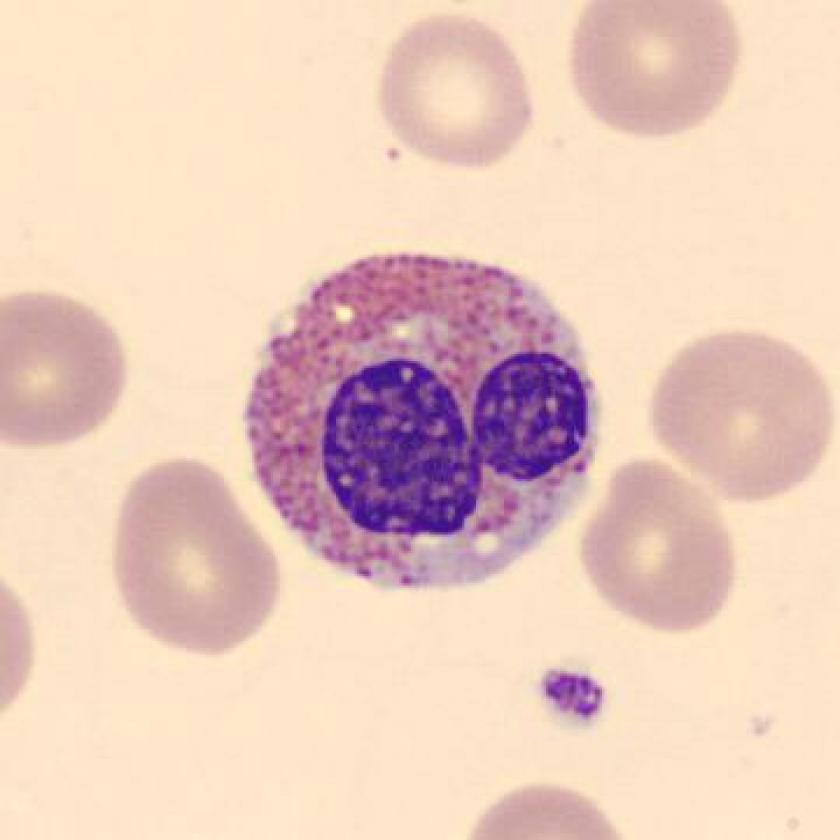eosinophil: (232, 237, 617, 612)
